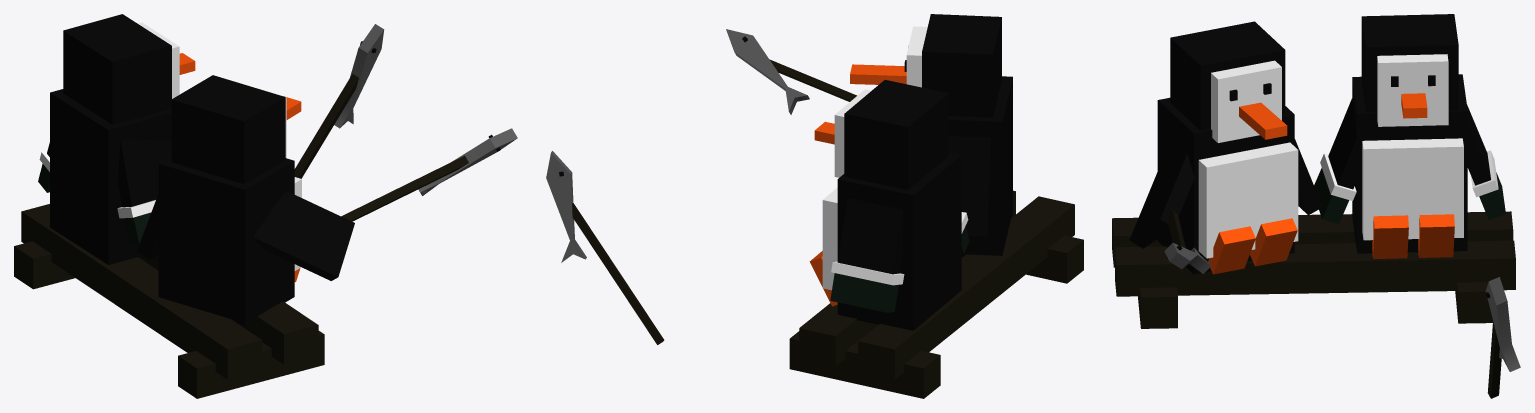
File: Man-Woman-Fish-Sitting.obj
3 views of the same model, side by side, from view 1: azimuth 30°, elevation 25°; view 2: azimuth 150°, elevation 25°; view 3: azimuth 270°, elevation 25° (orthographic). The views are drawn at different scales.
Parts seen in each view (by area): view 1: polySurface376, polySurface365, pCube129, pCube157, polySurface876; view 2: polySurface365, pCube129, polySurface376, polySurface876, pCube157; view 3: polySurface365, polySurface376, pCube129, pCube157, polySurface876.
Part boxes in pixels (x1=…): polySurface376: x1=137, y1=75, x2=301, y2=325; polySurface365: x1=38, y1=14, x2=195, y2=264; pCube129: x1=14, y1=204, x2=324, y2=398; pCube157: x1=253, y1=128, x2=517, y2=280; polySurface876: x1=294, y1=24, x2=384, y2=178; polySurface365: x1=809, y1=80, x2=969, y2=330; pCube129: x1=789, y1=190, x2=1083, y2=398; polySurface376: x1=850, y1=14, x2=1012, y2=256; polySurface876: x1=546, y1=151, x2=664, y2=344; pCube157: x1=726, y1=29, x2=856, y2=114; polySurface365: x1=1314, y1=14, x2=1505, y2=258; polySurface376: x1=1157, y1=21, x2=1321, y2=274; pCube129: x1=1112, y1=211, x2=1515, y2=328; pCube157: x1=1129, y1=153, x2=1211, y2=273; polySurface876: x1=1485, y1=277, x2=1520, y2=398.
Bounding box in the file's own units: 2.01 × 1.34 × 1.85.
